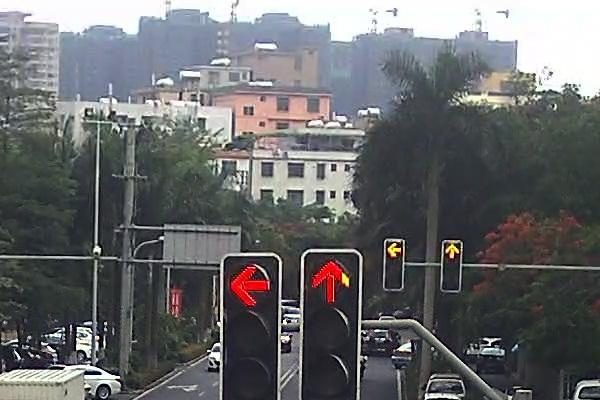redleft: (225, 263, 273, 310), (386, 239, 403, 262)
redstraight: (310, 260, 353, 306), (443, 241, 463, 260)
